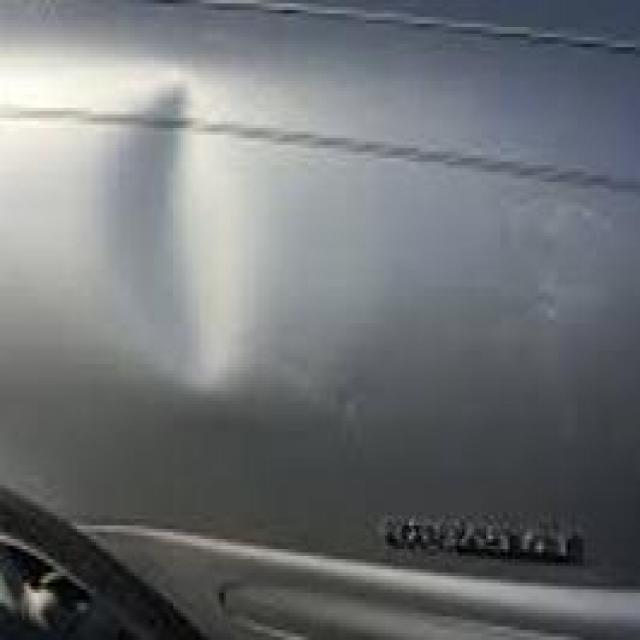dent: (93, 62, 249, 406)
